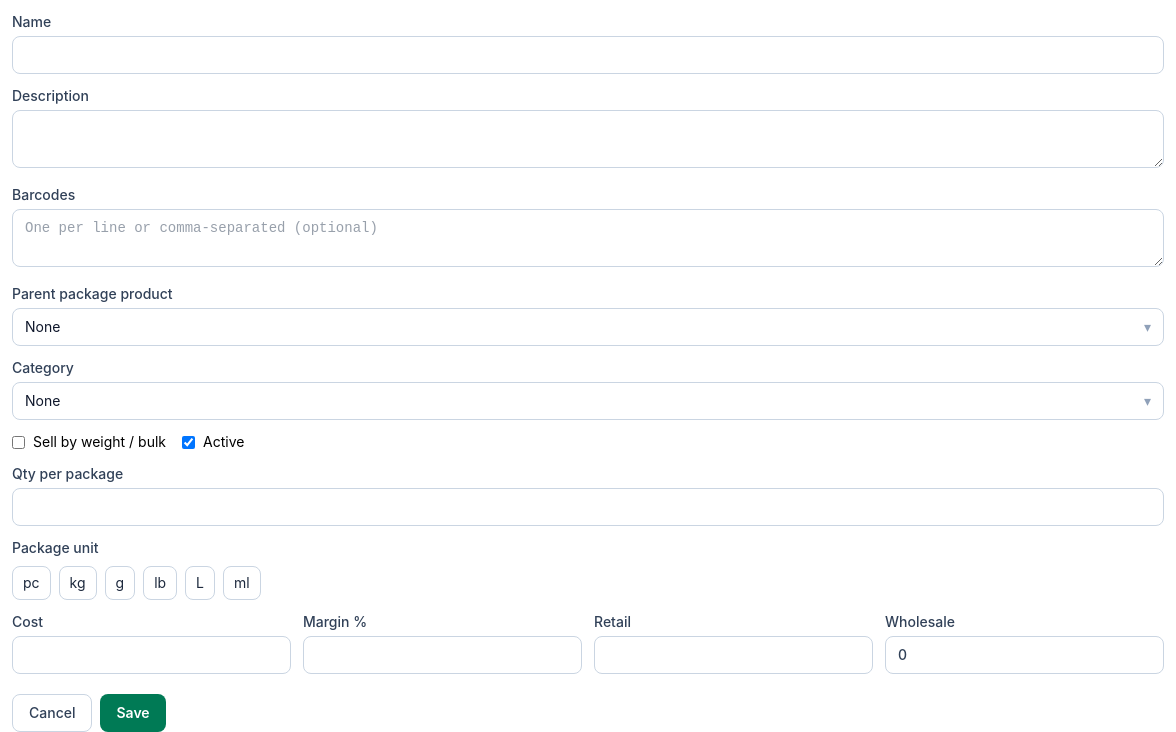
ProductEditorForm Feature 076 › shows package unit chips and category add option
Expected: the element with test id "package-unit-chips" is shown, [12,566,261,600]
Expected: the radio button with test id "package-unit-chips-kg" is shown, [59,566,97,600]
Click the button with test id "product-category".
click(43, 400)  # box [12,382,1164,420]
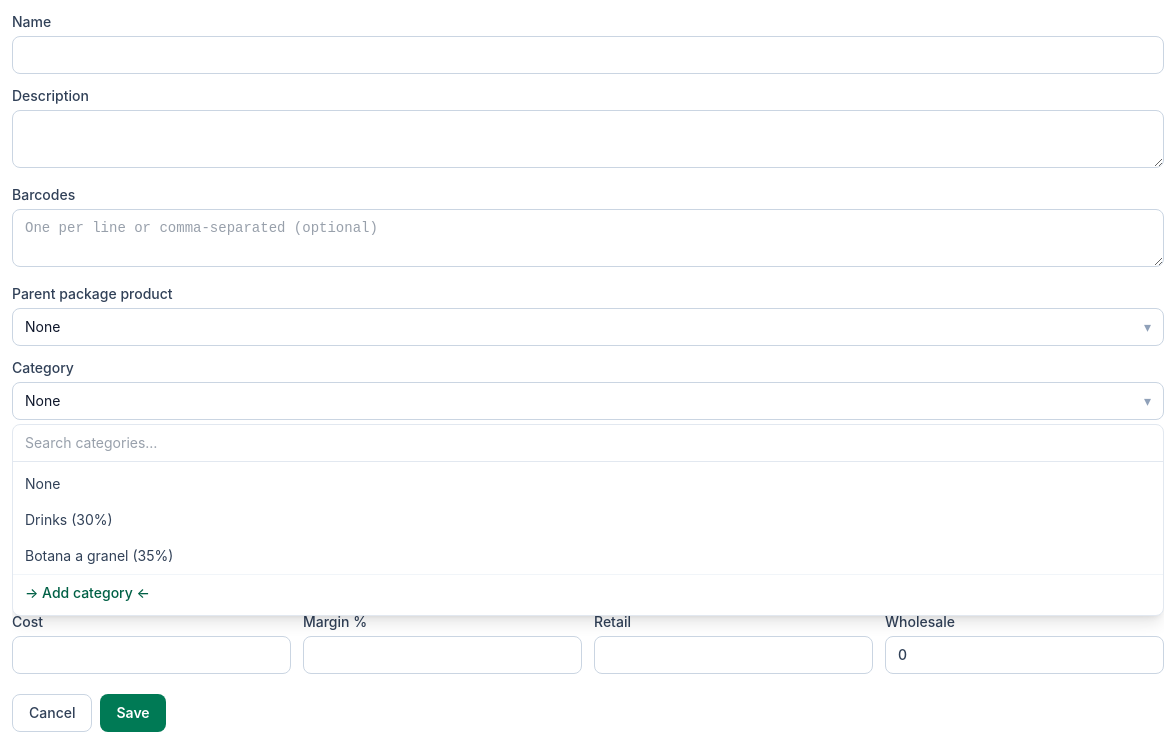
Expected: the button with test id "category-add-option" is shown, [13,575,1163,611]
